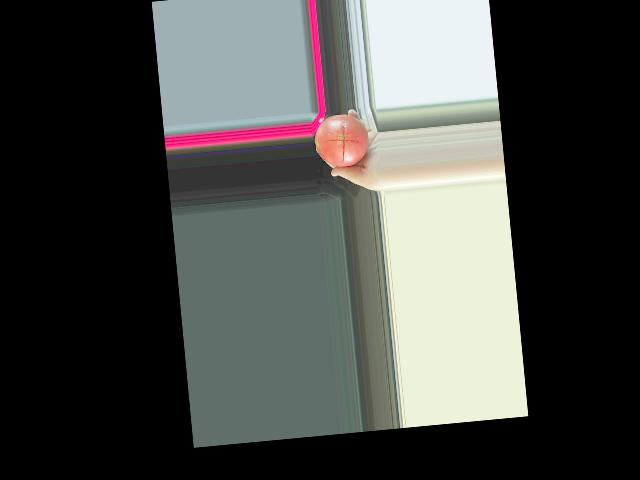tomato: (313, 111, 371, 169)
